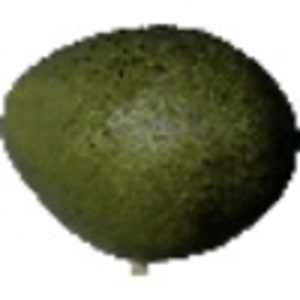abacate: (1, 18, 299, 264)
